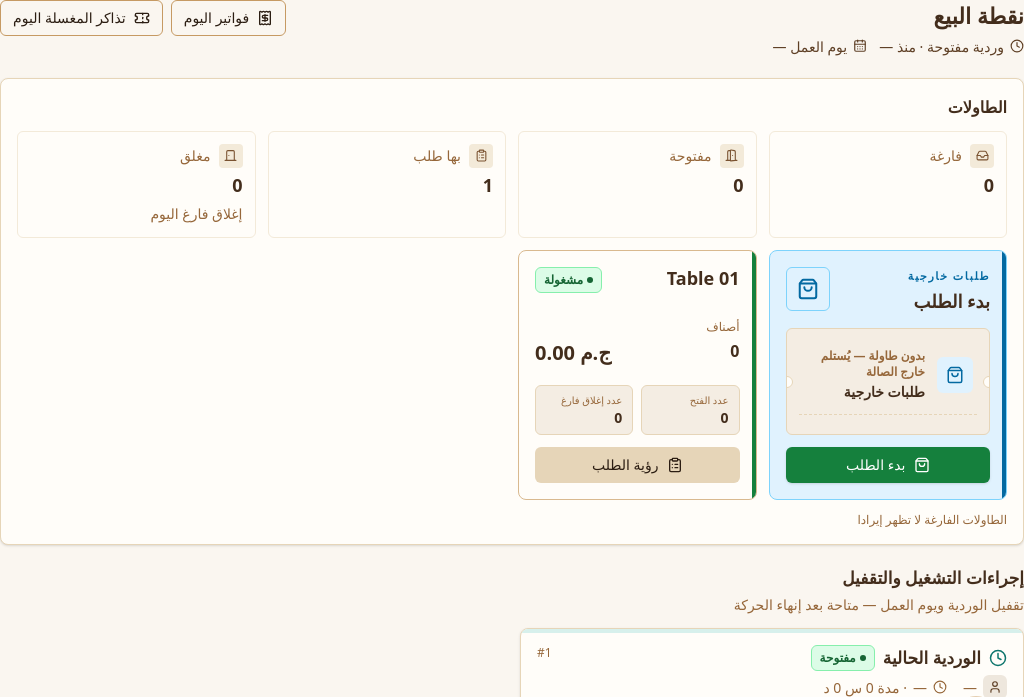
Test: payment entry — one direct action (issues 1 & 2) › offers the received amount as ONE auto-fill shortcut, never a duplicate
The image size is (1024, 697).
Click the button "رؤية الطلب": [637, 466] box [535,448,740,484]
(page scrolled)
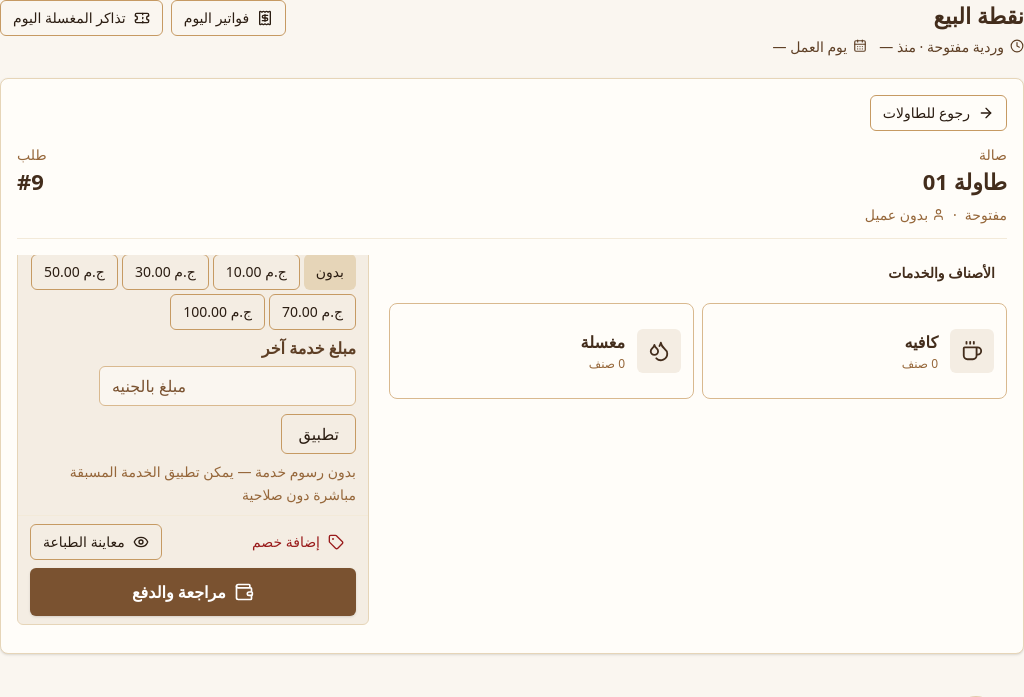
Click the button "مراجعة والدفع": [193, 592] box [30,568,356,616]
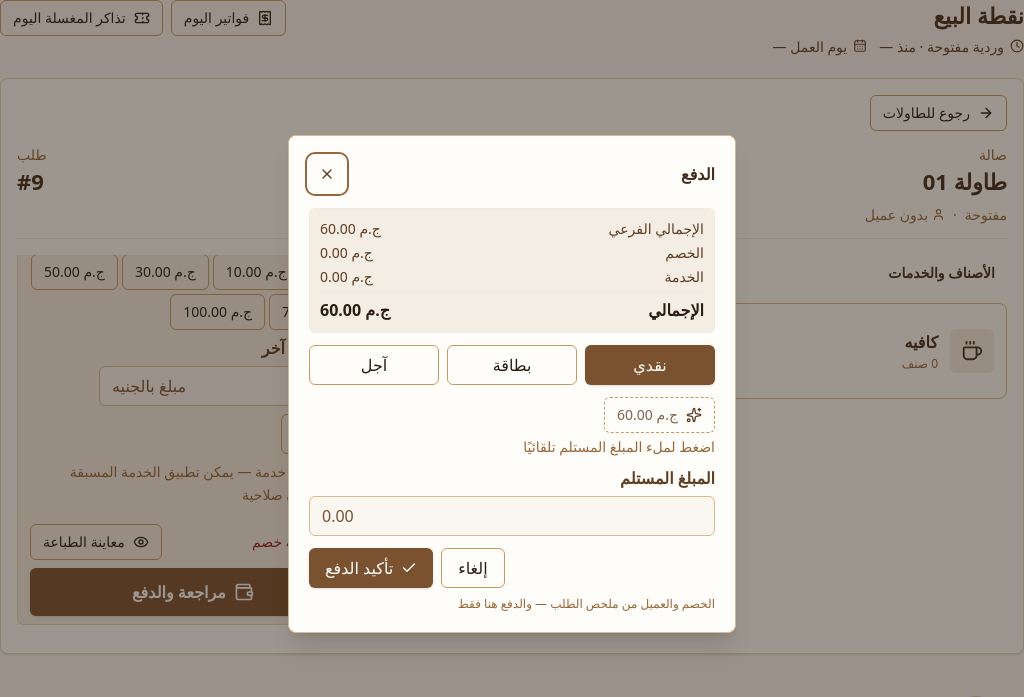
Check: the number of buttons named "ملء المبلغ المستلم تلقائيًا" is 1
Check: the text "اضغط لملء المبلغ المستلم تلقائيًا" is shown, box [523,435,715,458]
Click the button named "ملء المبلغ المستلم تلقائيًا": [660, 415] box [604,397,715,433]
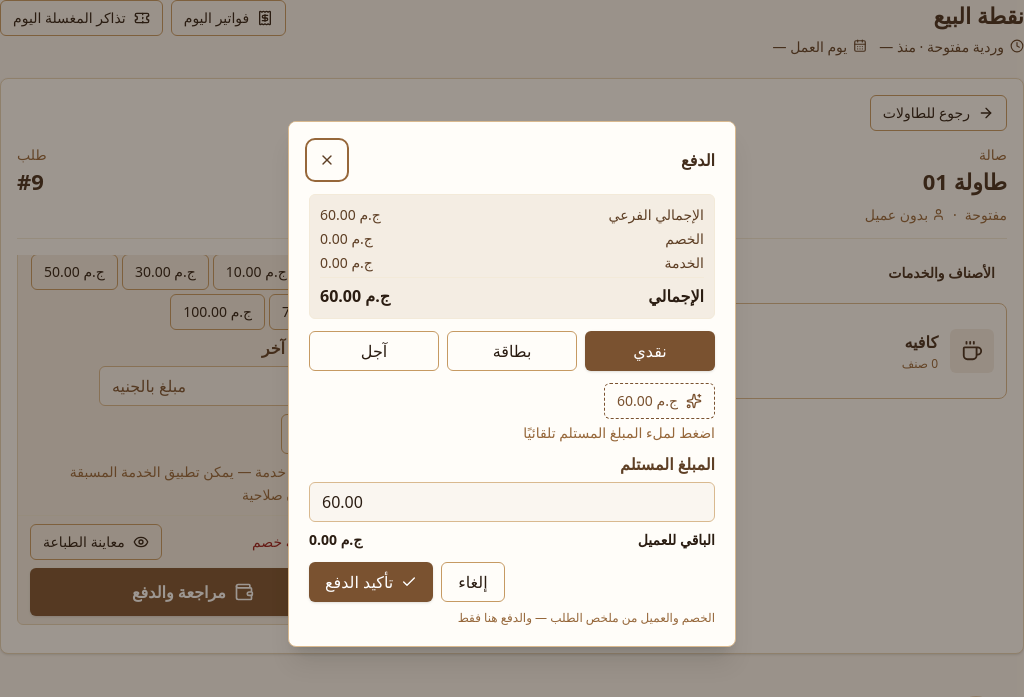
Check: the field with placeholder "0.00" holds "60.00", box [309,482,715,522]
